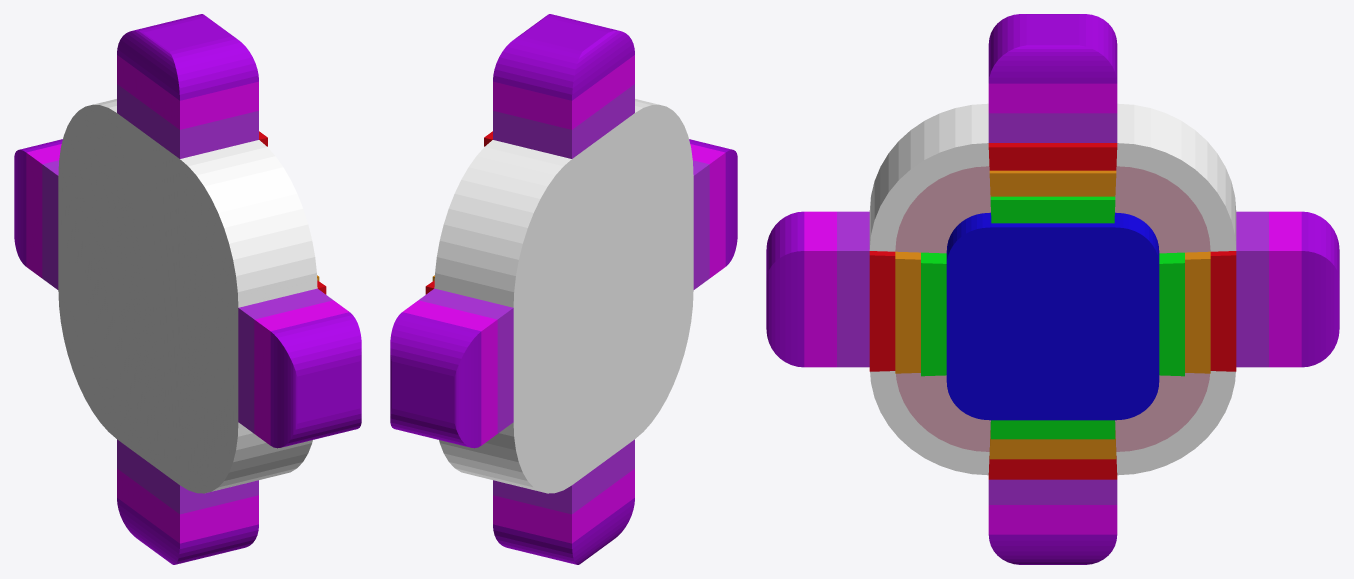
Rendered from star.fbx.
The picture shows the model from 3 angles, left to right: view 1: azimuth 30°, elevation 25°; view 2: azimuth 150°, elevation 25°; view 3: azimuth 270°, elevation 25°; orthographic projection.
Parts seen in each view (by area): view 1: Cube; view 2: Cube; view 3: Cube.
Boxes of the visible parts, x1=… form: Cube: x1=14, y1=14, x2=361, y2=564; Cube: x1=390, y1=14, x2=737, y2=564; Cube: x1=766, y1=14, x2=1339, y2=564.
Size of the model in its own units: 69.76 by 313 by 313.
